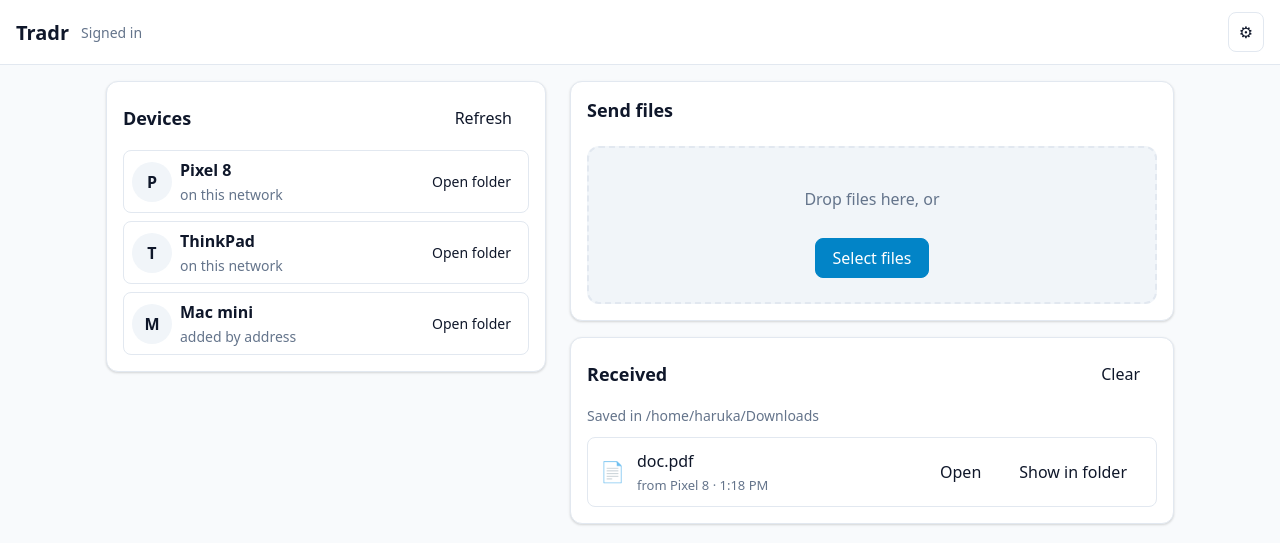
Test: App component › asks before clearing, does nothing on Cancel, and clears on confirm
Expected: the text "doc.pdf" is shown, [637,450,694,472]
Click the button "Clear".
click(1121, 374)  # box [1084,354,1157,394]
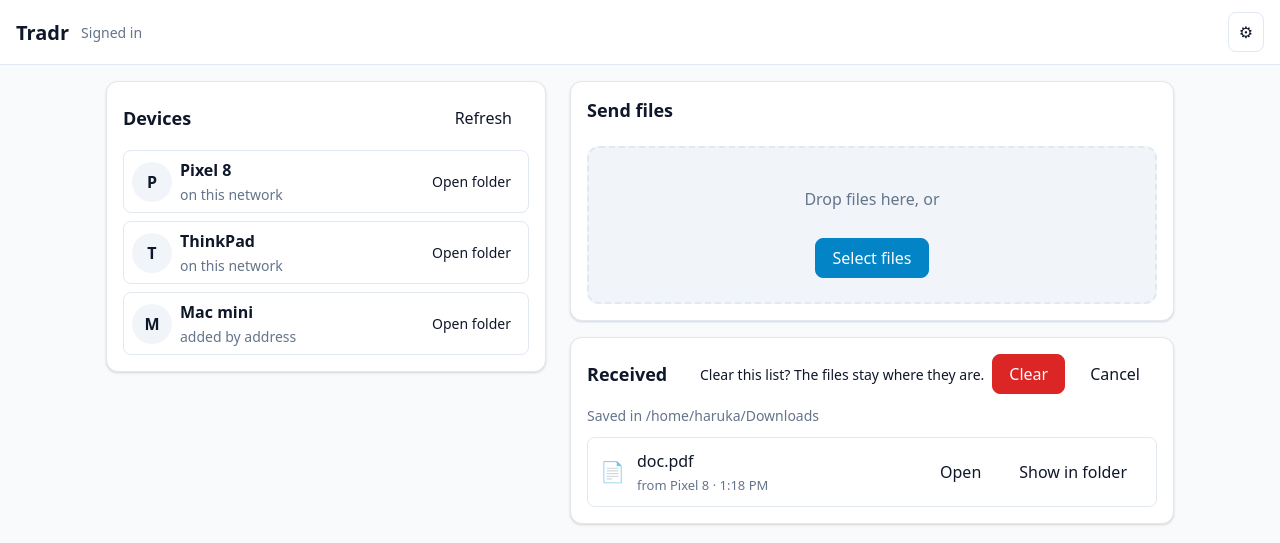
Expected: the text "Clear this list? The files stay where they are." is shown, [700,364,984,384]
Click the button "Cancel".
click(1115, 374)  # box [1073,354,1157,394]
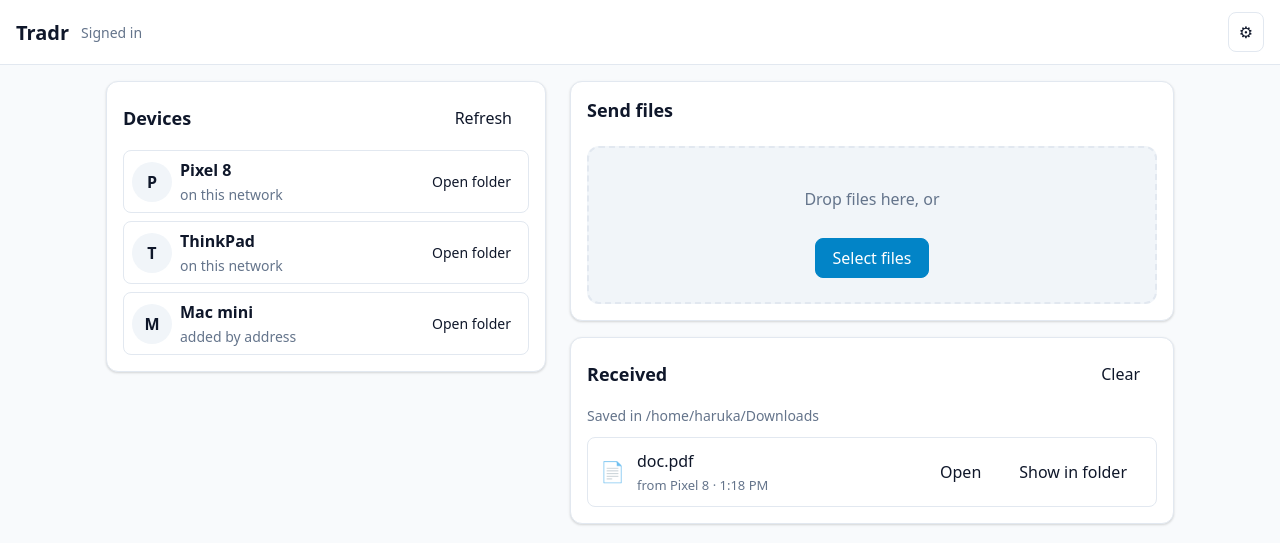
Expected: the text "Clear this list? The files stay where they are." is gone
Click the button "Clear".
click(1121, 374)  # box [1084,354,1157,394]
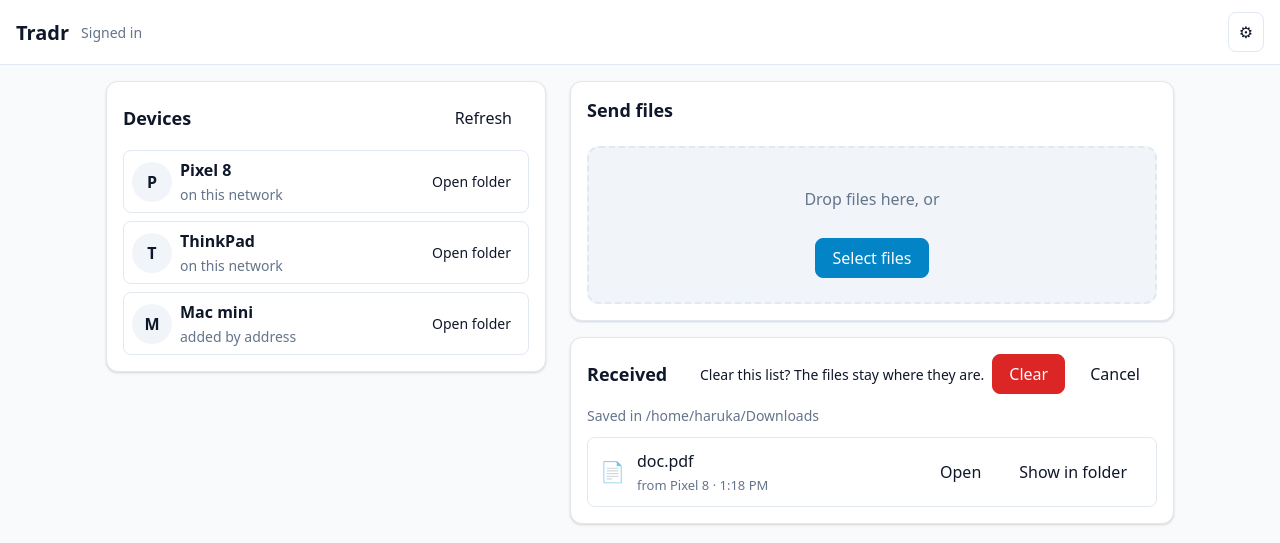
Click the button "Clear".
click(1029, 374)  # box [992,354,1065,394]
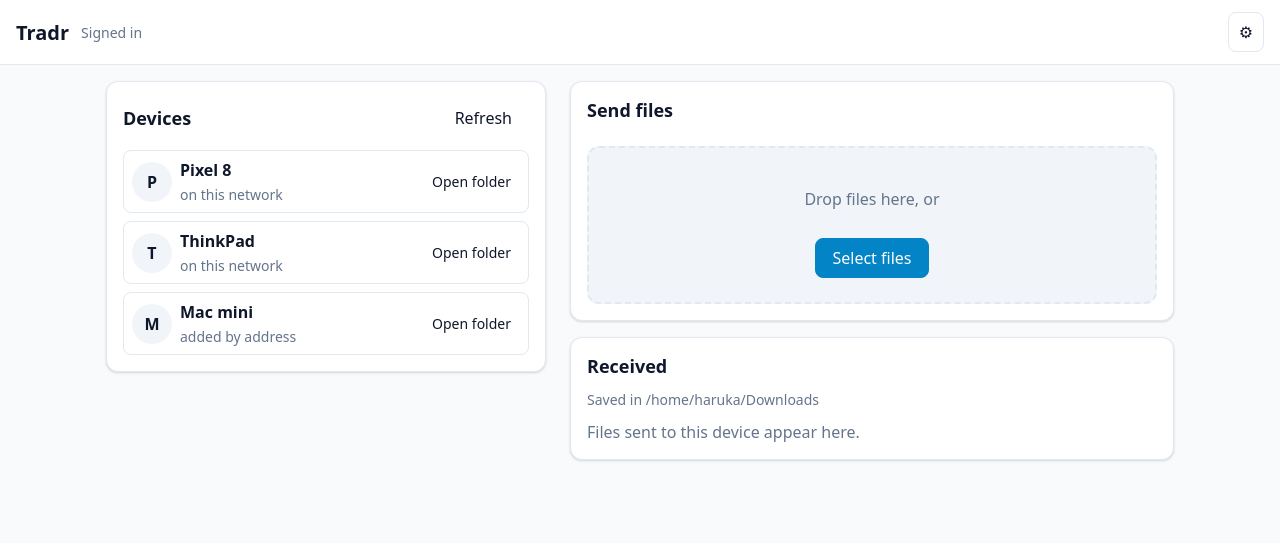
Expected: the text "Files sent to this device appear here." is shown, [587,421,860,443]
Expected: no list items with class "file-row" are shown
Expected: the text "Clear" is gone
